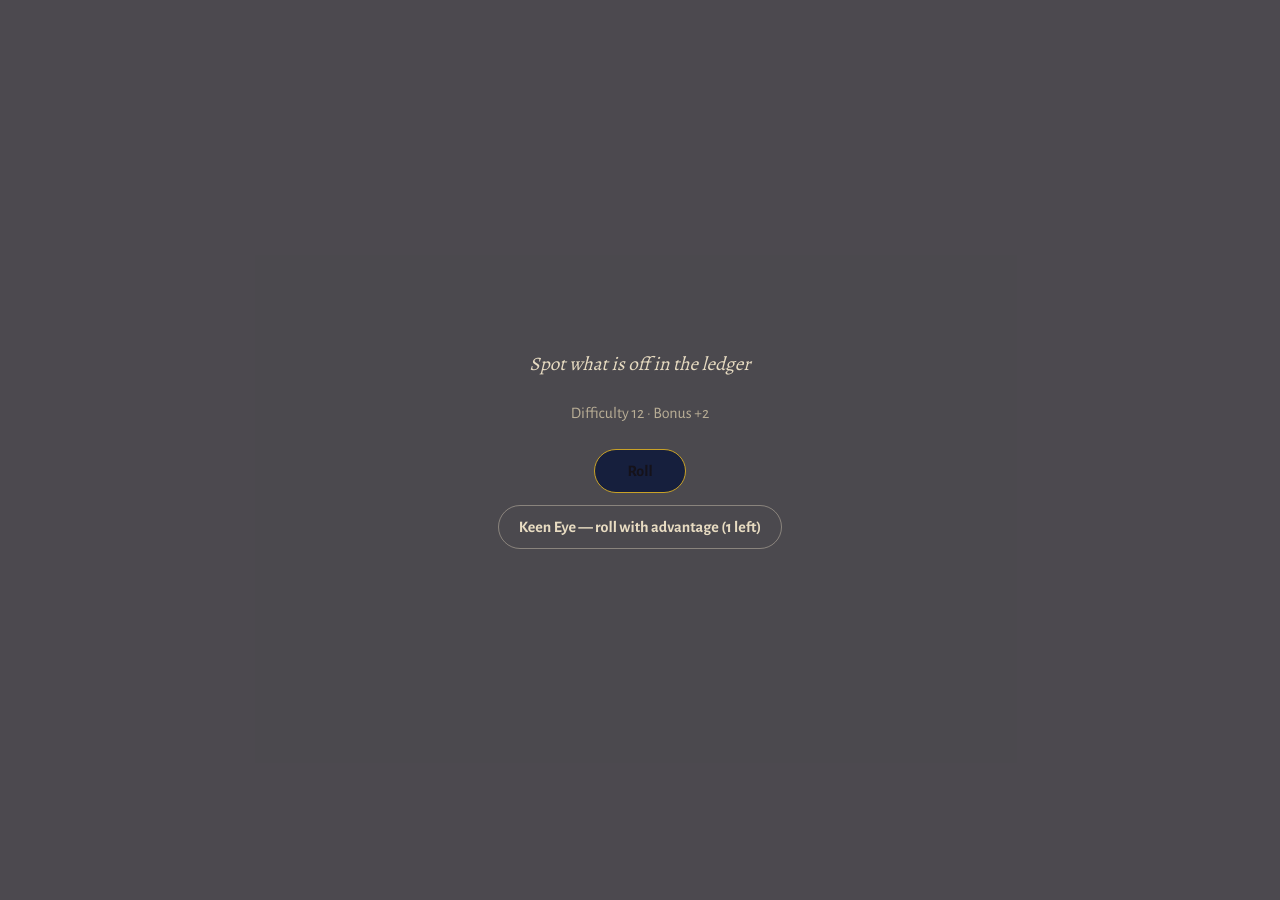
DiceMoment › Investigator with Keen Eye: the extra button rolls with advantage and shows both dice
Click the button "Keen Eye — roll with advantage (1 left)" at [640, 527], box [498,505,782,549]
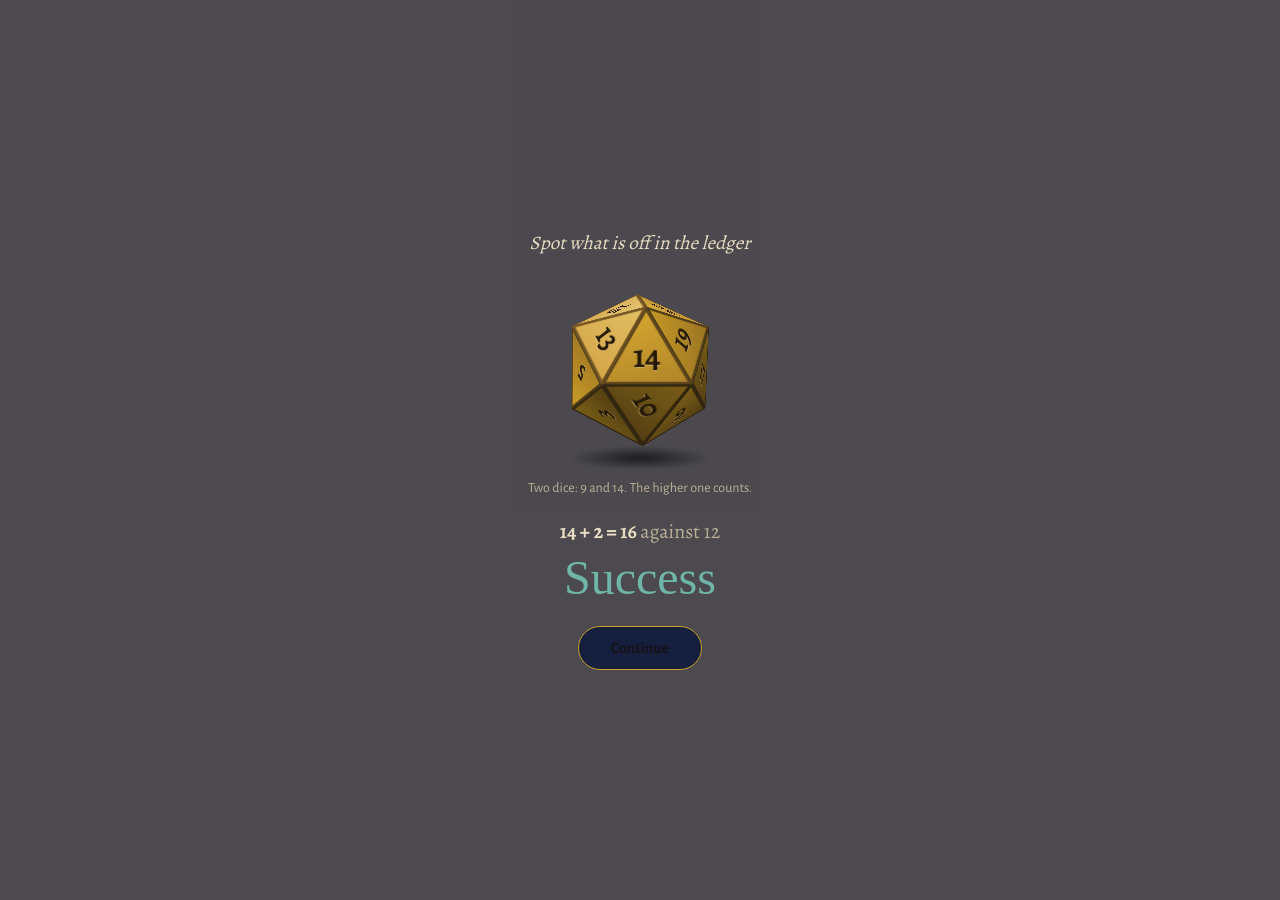
Result: the text "Two dice: 9 and 14. The higher one counts." is shown at [528,478,752,498]
